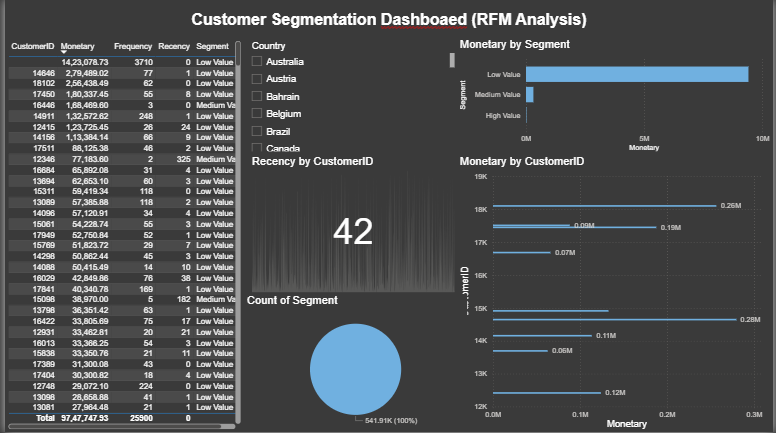

Layout of this report page (visuals, bound fields, positions):
{"tool":"powerbi","page":{"name":"Page 1","canvas":[1280,720],"ordinal":0},"visuals":[{"type":"tableEx","fields":{"Values":["Online Retail.CustomerID","Online Retail.Monetary","Online Retail.Frequency","Online Retail.Recency","Online Retail.Segment"]},"box":[0,63.8,398.1,656.8],"z":0},{"type":"kpi","fields":{"TrendLine":["Online Retail.CustomerID"],"Indicator":["Online Retail.Recency"]},"box":[406,258,348,234],"z":2},{"type":"clusteredBarChart","fields":{"Category":["Online Retail.CustomerID"],"Y":["Online Retail.Monetary"]},"box":[754,258,526,462],"z":6},{"type":"textbox","box":[0,13.3,1280,50],"z":7},{"type":"pieChart","fields":{"Y":["CountNonNull(Online Retail.Segment)"]},"box":[398,490,372,230],"z":8},{"type":"clusteredBarChart","fields":{"Category":["Online Retail.Segment"],"Y":["Online Retail.Monetary"]},"box":[754,64,526,194],"z":9},{"type":"slicer","fields":{"Values":["Online Retail.Country"]},"box":[398,64,356,194],"z":10}]}

Visuals, with their boxes in screenshot pixels (x1, y1, x2, y2), scaled from the page's 1280x720 canvas onto the 776x433 screenshot:
tableEx - Online Retail.CustomerID x Online Retail.Monetary: x1=0 y1=38 x2=241 y2=432
kpi - Online Retail.CustomerID x Online Retail.Recency: x1=246 y1=155 x2=457 y2=296
clusteredBarChart - Online Retail.CustomerID x Online Retail.Monetary: x1=457 y1=155 x2=775 y2=432
textbox: x1=0 y1=8 x2=775 y2=38
pieChart - CountNonNull(Online Retail.Segment): x1=241 y1=295 x2=467 y2=432
clusteredBarChart - Online Retail.Segment x Online Retail.Monetary: x1=457 y1=38 x2=775 y2=155
slicer - Online Retail.Country: x1=241 y1=38 x2=457 y2=155
